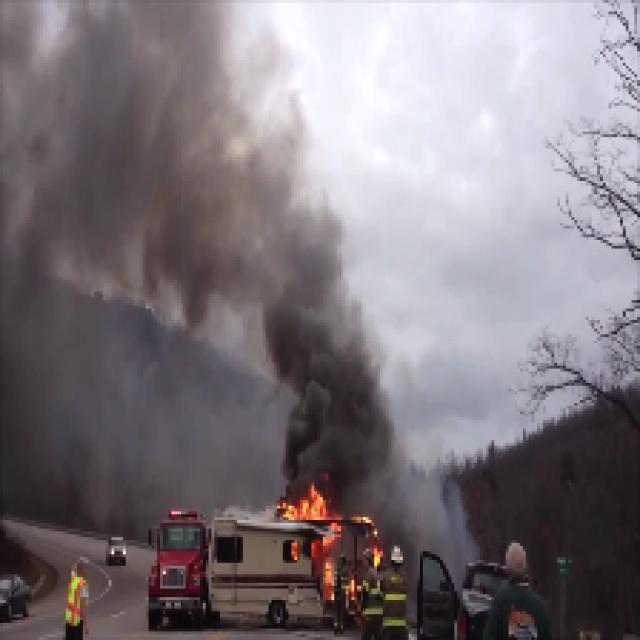fire: (276, 490, 331, 524)
smoke: (4, 2, 269, 316), (274, 199, 392, 480)
